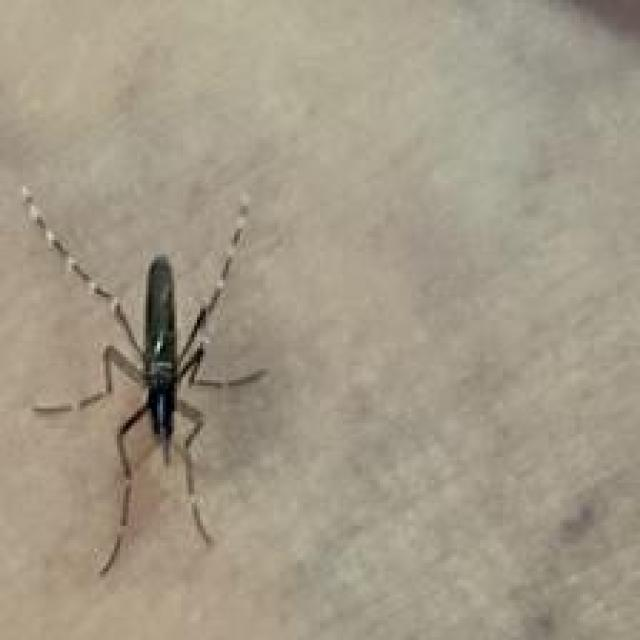Aedes albopictus: (19, 183, 270, 577)
